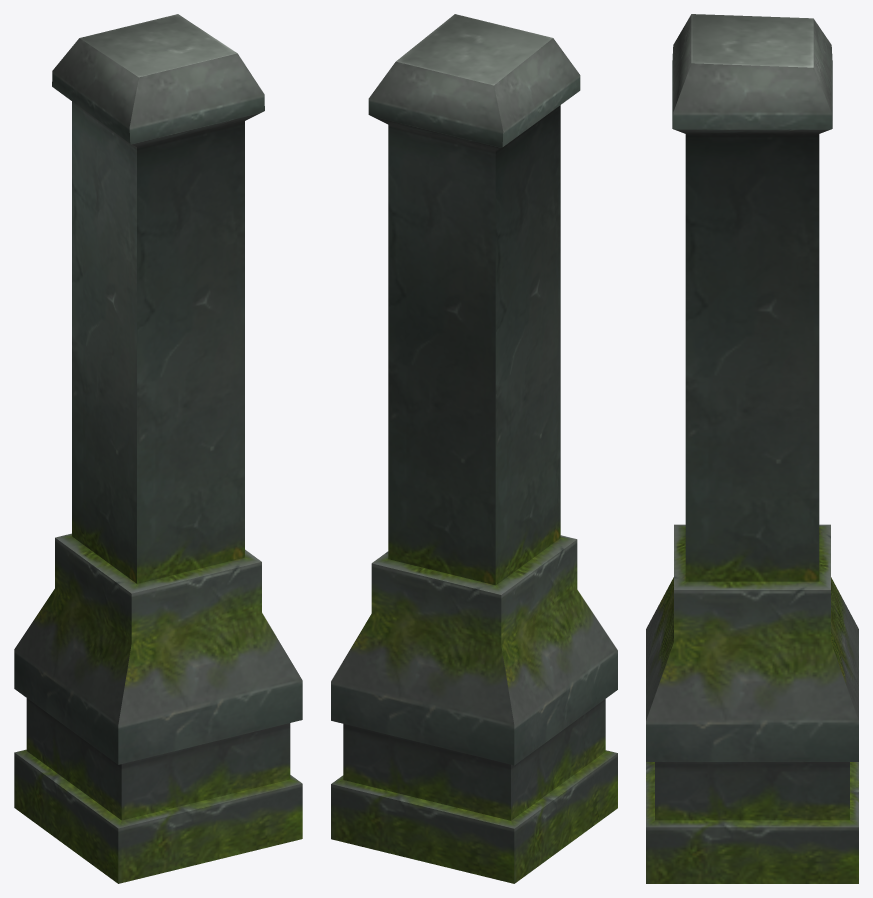
Rendered from qiang02_01.FBX.
3 views of the same model, side by side, from view 1: azimuth 30°, elevation 25°; view 2: azimuth 150°, elevation 25°; view 3: azimuth 270°, elevation 25° (orthographic). The views are drawn at different scales.
Parts seen in each view (by area): view 1: qiang02_01; view 2: qiang02_01; view 3: qiang02_01.
Boxes of the visible parts, x1,y1,x2,y2 form: qiang02_01: (14,14,302,883); qiang02_01: (331,14,617,883); qiang02_01: (646,14,858,883).
Size of the model in its own units: 149 by 604 by 146.
1 material, 1 textured.
